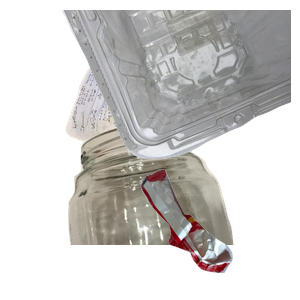glass: (61, 120, 287, 300)
paper: (63, 61, 242, 206)
plastic: (60, 10, 300, 162)
trash: (139, 167, 300, 300)
